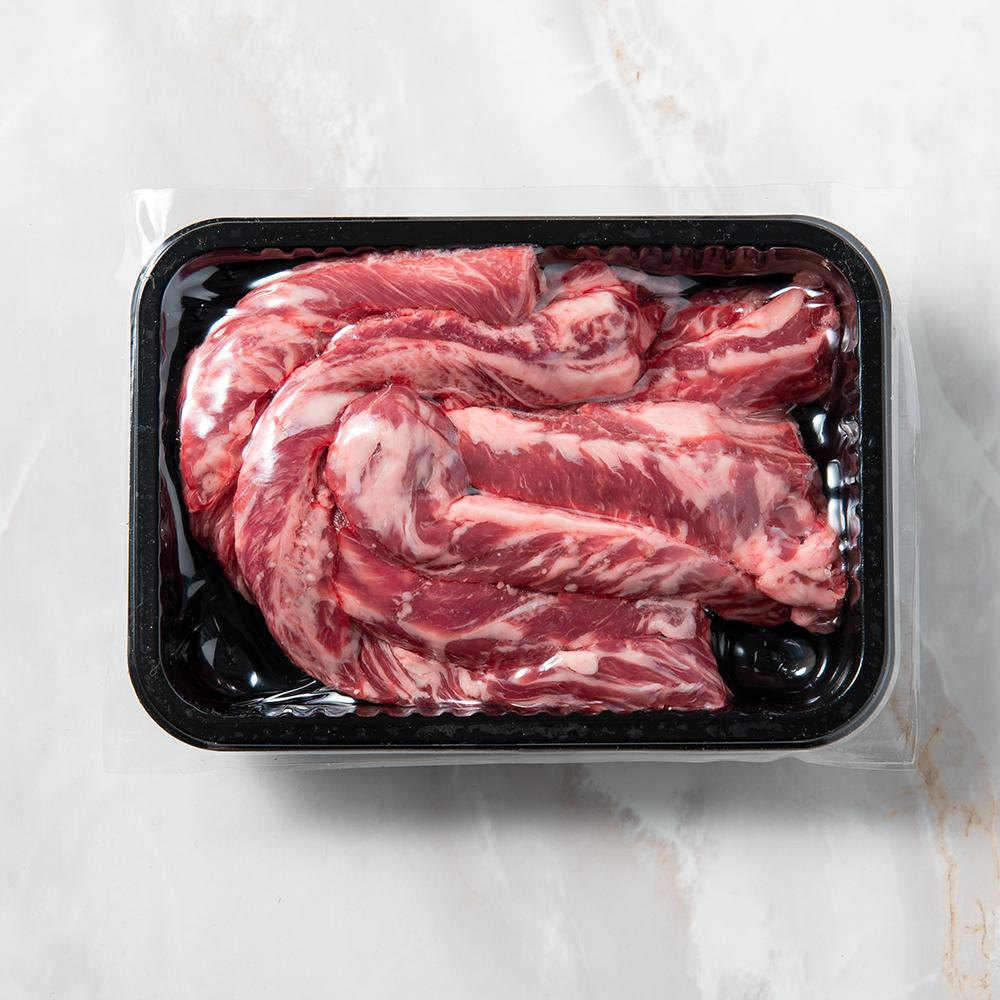beef: (330, 422, 1000, 1000)
